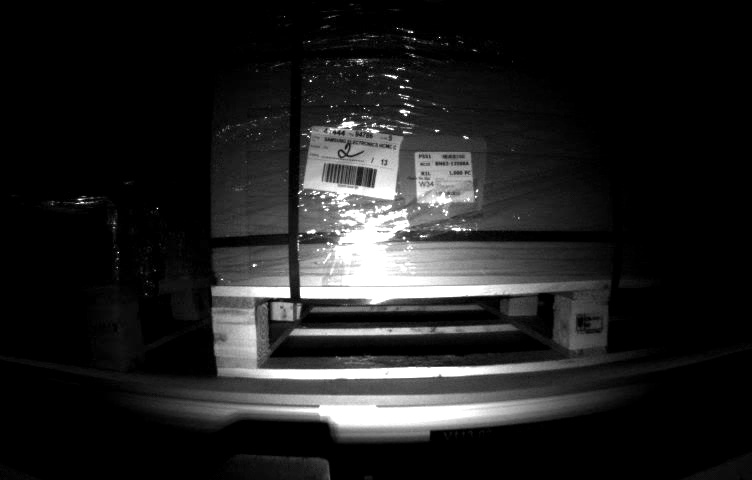True Barcode: (412, 152, 477, 210)
